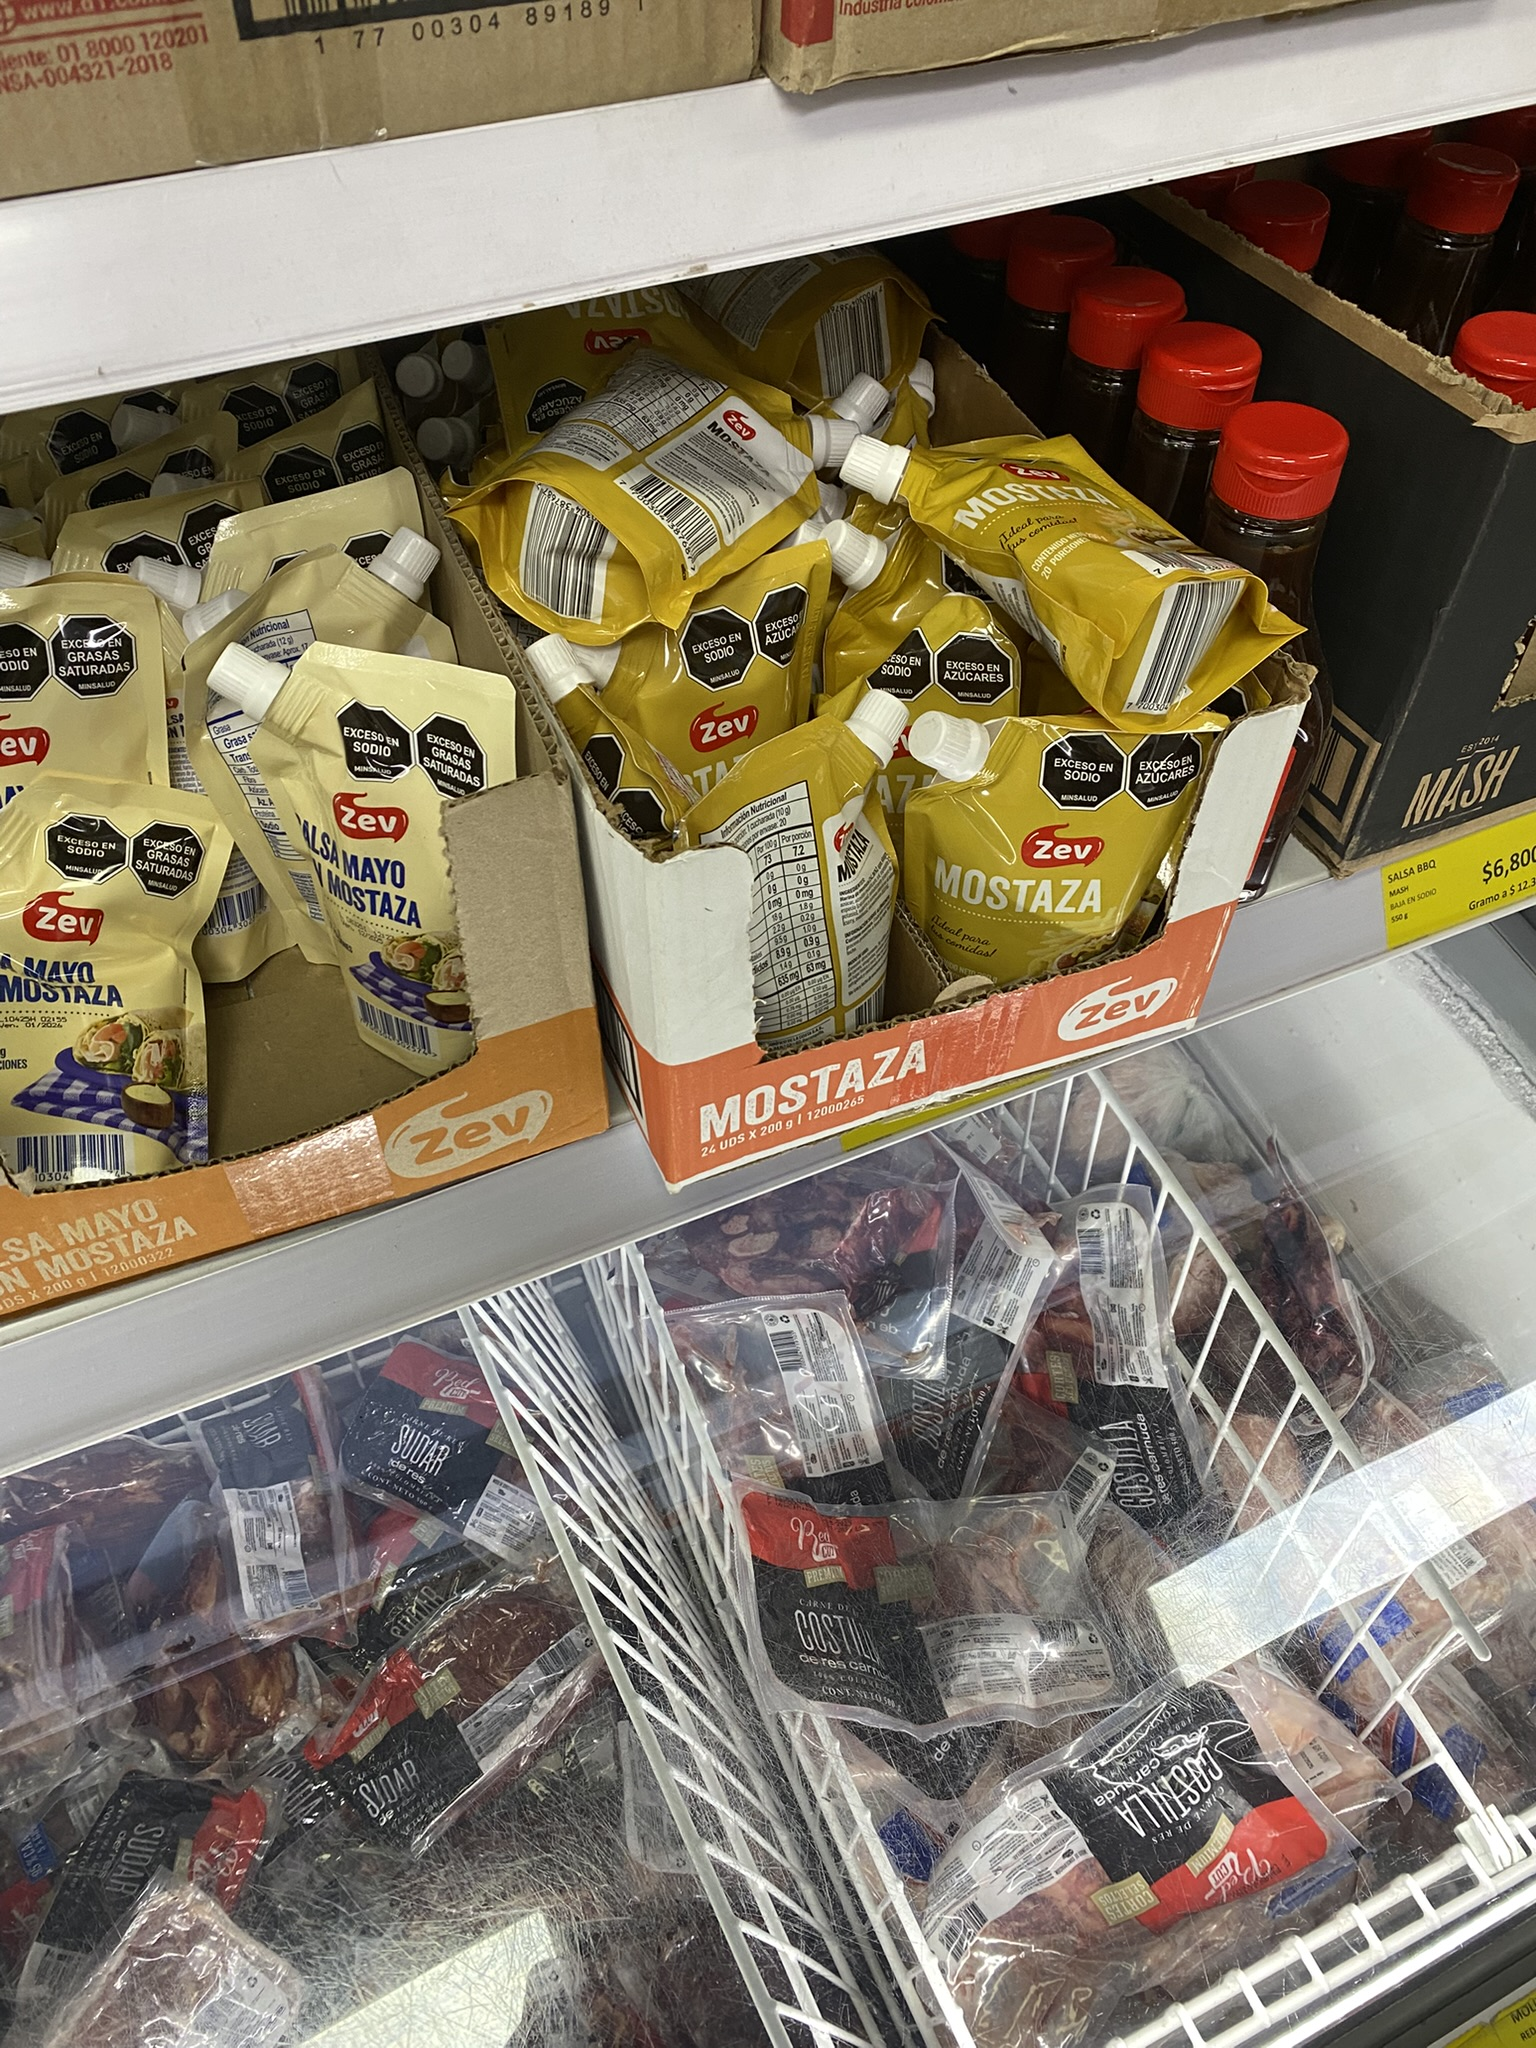Mostaza: (829, 416, 1304, 705), (424, 366, 847, 614), (900, 724, 1226, 997), (715, 693, 907, 1071), (570, 622, 837, 798)
